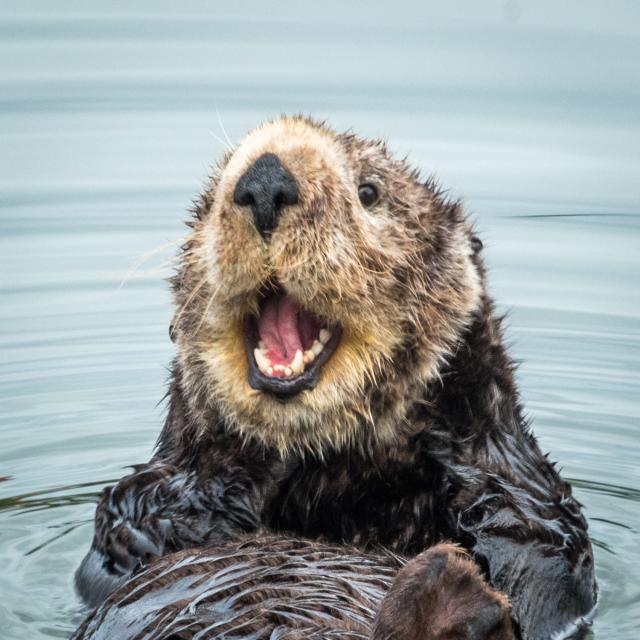Otter: (100, 113, 594, 640)
